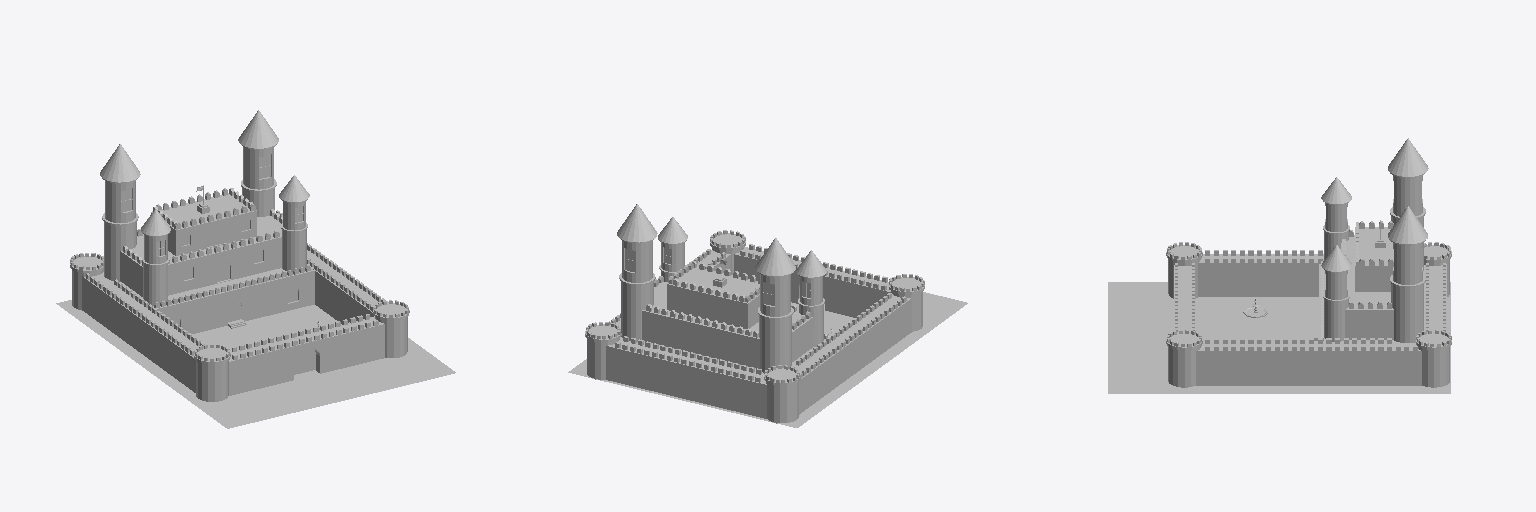
The model's file is Castle2.obj.
The picture shows the model from 3 angles: view 1: azimuth 30°, elevation 25°; view 2: azimuth 150°, elevation 25°; view 3: azimuth 270°, elevation 25°; orthographic projection.
Parts seen in each view (by area): view 1: Castle_Exterior_Mesh, Castle_Interior_Mesh.003, Towers_Doors_and_Windows_Mesh.001, Ground_and_Fountain_Mesh.002; view 2: Castle_Exterior_Mesh, Towers_Doors_and_Windows_Mesh.001, Castle_Interior_Mesh.003, Ground_and_Fountain_Mesh.002; view 3: Castle_Exterior_Mesh, Ground_and_Fountain_Mesh.002, Towers_Doors_and_Windows_Mesh.001, Castle_Interior_Mesh.003.
Boxes of the visible parts, x1,y1,x2,y2 form: Castle_Exterior_Mesh: [70, 210, 409, 401]; Castle_Interior_Mesh.003: [103, 185, 314, 333]; Towers_Doors_and_Windows_Mesh.001: [100, 110, 315, 374]; Ground_and_Fountain_Mesh.002: [56, 300, 455, 428]; Castle_Exterior_Mesh: [585, 230, 924, 423]; Towers_Doors_and_Windows_Mesh.001: [617, 204, 826, 372]; Castle_Interior_Mesh.003: [620, 260, 827, 373]; Ground_and_Fountain_Mesh.002: [568, 292, 967, 427]; Castle_Exterior_Mesh: [1166, 242, 1451, 387]; Ground_and_Fountain_Mesh.002: [1108, 282, 1450, 393]; Towers_Doors_and_Windows_Mesh.001: [1311, 138, 1428, 342]; Castle_Interior_Mesh.003: [1319, 220, 1424, 341].
Size of the model in its own units: 58.11 by 40.26 by 75.6.